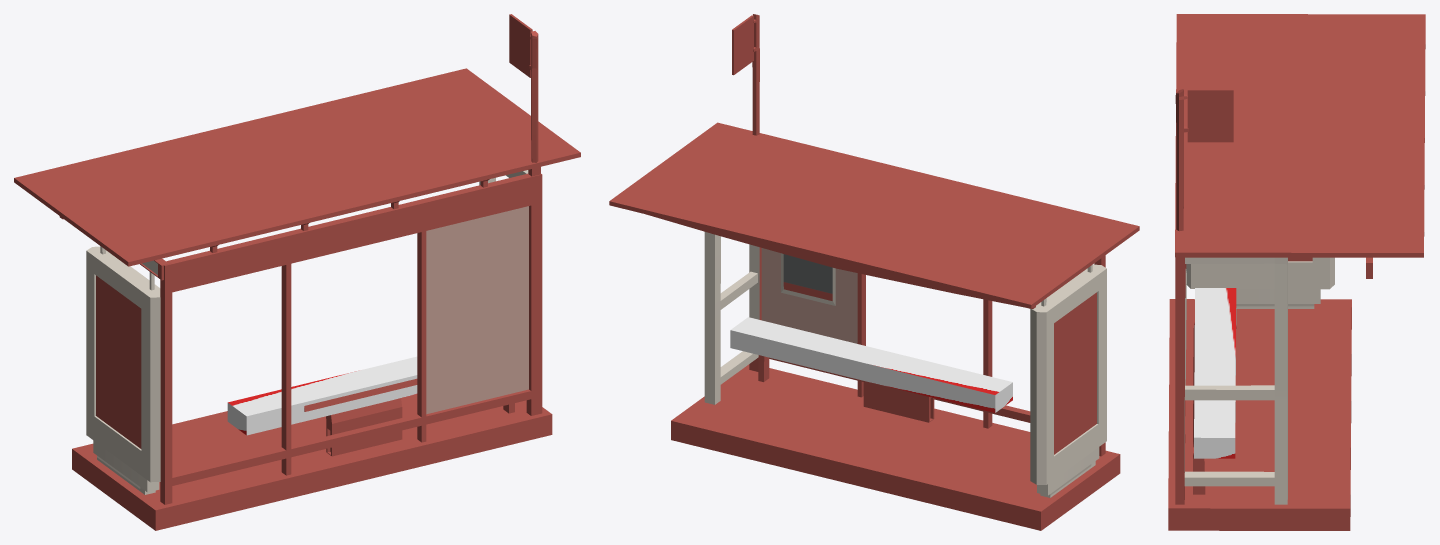
The model's file is PontoOnibus.fbx.
The picture shows the model from 3 angles, left to right: view 1: azimuth 30°, elevation 25°; view 2: azimuth 150°, elevation 25°; view 3: azimuth 270°, elevation 25°; orthographic projection. The views are drawn at different scales.
Parts seen in each view (by area): view 1: Bus_Stop__3_, Road_Split_Line__4_; view 2: Bus_Stop__3_, Road_Split_Line__4_; view 3: Bus_Stop__3_, Road_Split_Line__4_.
Part boxes in pixels (<box>): Bus_Stop__3_: <box>14,14,580,530</box>; Road_Split_Line__4_: <box>227,356,417,435</box>; Bus_Stop__3_: <box>609,14,1139,530</box>; Road_Split_Line__4_: <box>730,317,1012,412</box>; Bus_Stop__3_: <box>1168,14,1425,530</box>; Road_Split_Line__4_: <box>1194,288,1236,458</box>.
Bounding box in the file's own units: 494 × 419 × 225.
2 materials, 2 textured.
